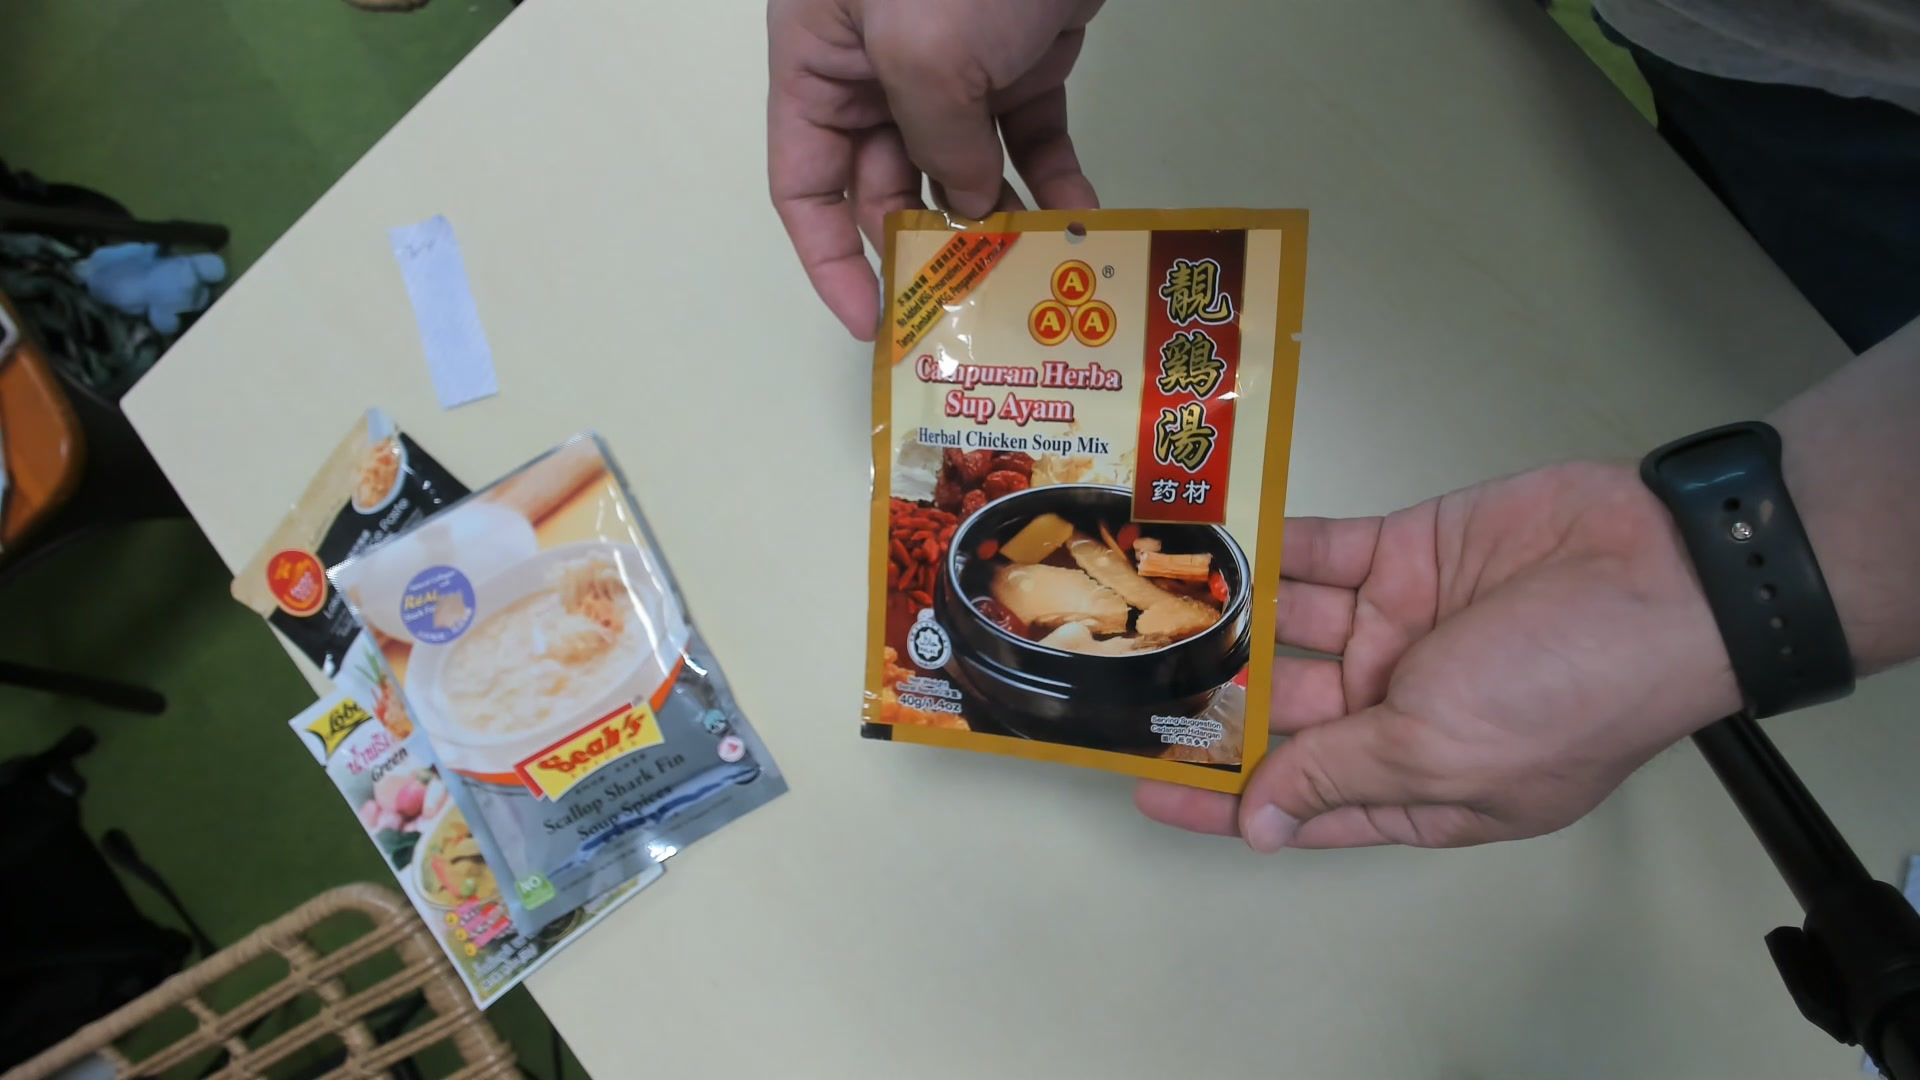OtherSauceDressing_0-99g_Halal_NonHealthy: (874, 207, 1274, 802)
